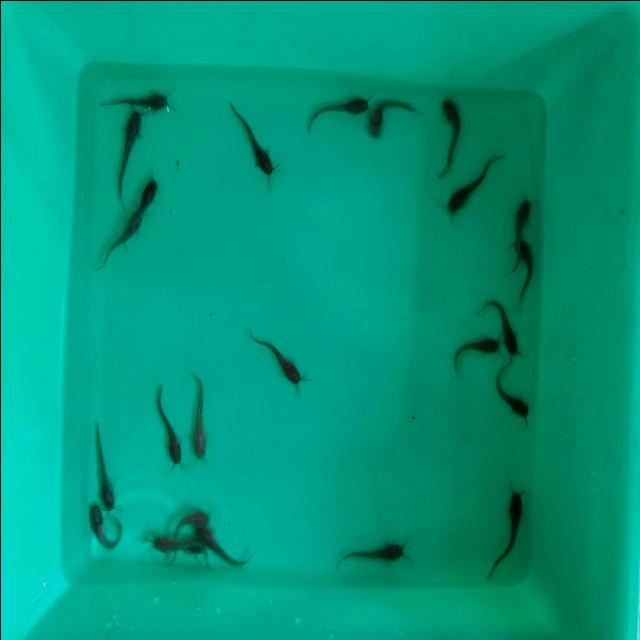lele: (230, 102, 278, 176), (89, 214, 142, 276), (249, 334, 301, 388), (489, 492, 524, 570), (444, 171, 496, 221), (364, 90, 412, 140), (112, 114, 142, 193), (185, 373, 212, 460), (94, 422, 120, 510), (204, 522, 252, 568), (304, 92, 368, 124), (494, 366, 530, 421), (438, 92, 462, 173), (84, 506, 124, 554), (510, 236, 538, 304), (157, 383, 180, 464), (449, 333, 498, 371), (336, 540, 405, 566), (91, 90, 176, 110), (493, 300, 523, 356), (145, 534, 179, 566), (130, 180, 156, 218), (513, 195, 531, 249), (182, 536, 202, 565), (176, 512, 212, 528)
